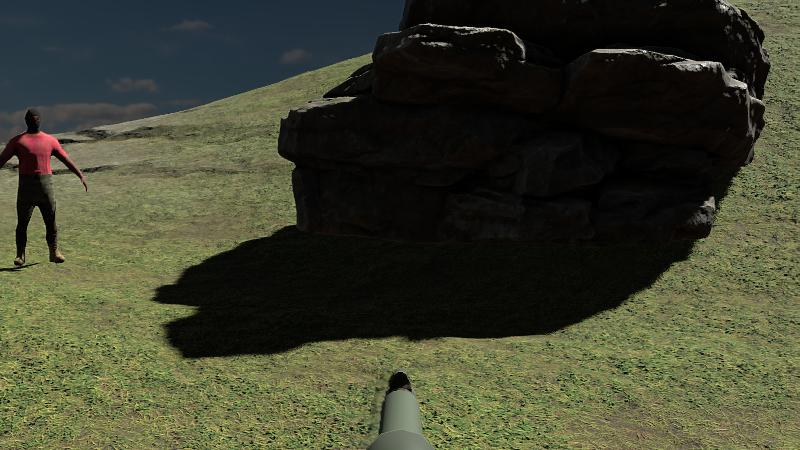Human: (0, 107, 88, 266)
